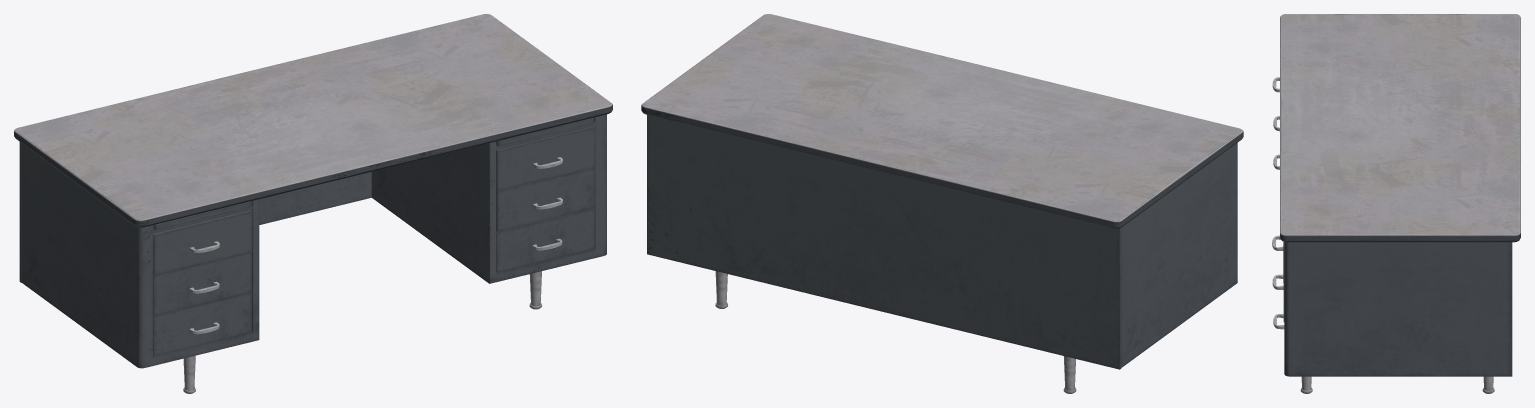
File: desk-office.glb
3 views of the same model, side by side, from view 1: azimuth 30°, elevation 25°; view 2: azimuth 150°, elevation 25°; view 3: azimuth 270°, elevation 25° (orthographic). The views are drawn at different scales.
Visible parts, largest first — view 1: metal_office_desk_drawer_06; view 2: metal_office_desk_drawer_06; view 3: metal_office_desk_drawer_06.
Boxes of the visible parts, x1,y1,x2,y2 form: metal_office_desk_drawer_06: [14, 14, 612, 393]; metal_office_desk_drawer_06: [641, 14, 1243, 393]; metal_office_desk_drawer_06: [1272, 14, 1520, 393].
Size of the model in its own units: 2 by 0.7874 by 0.9472.
Materials: 2 (2 with a texture image).
